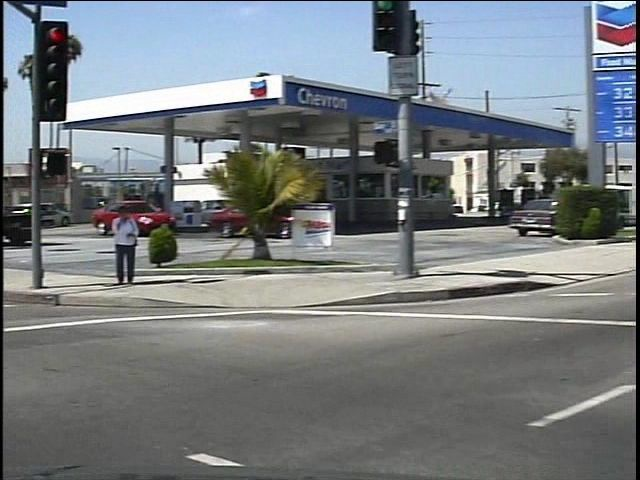person: (100, 201, 134, 291)
